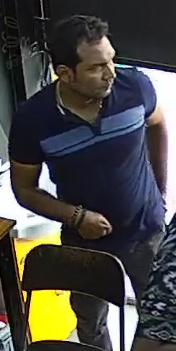no_apron: (24, 32, 171, 246)
